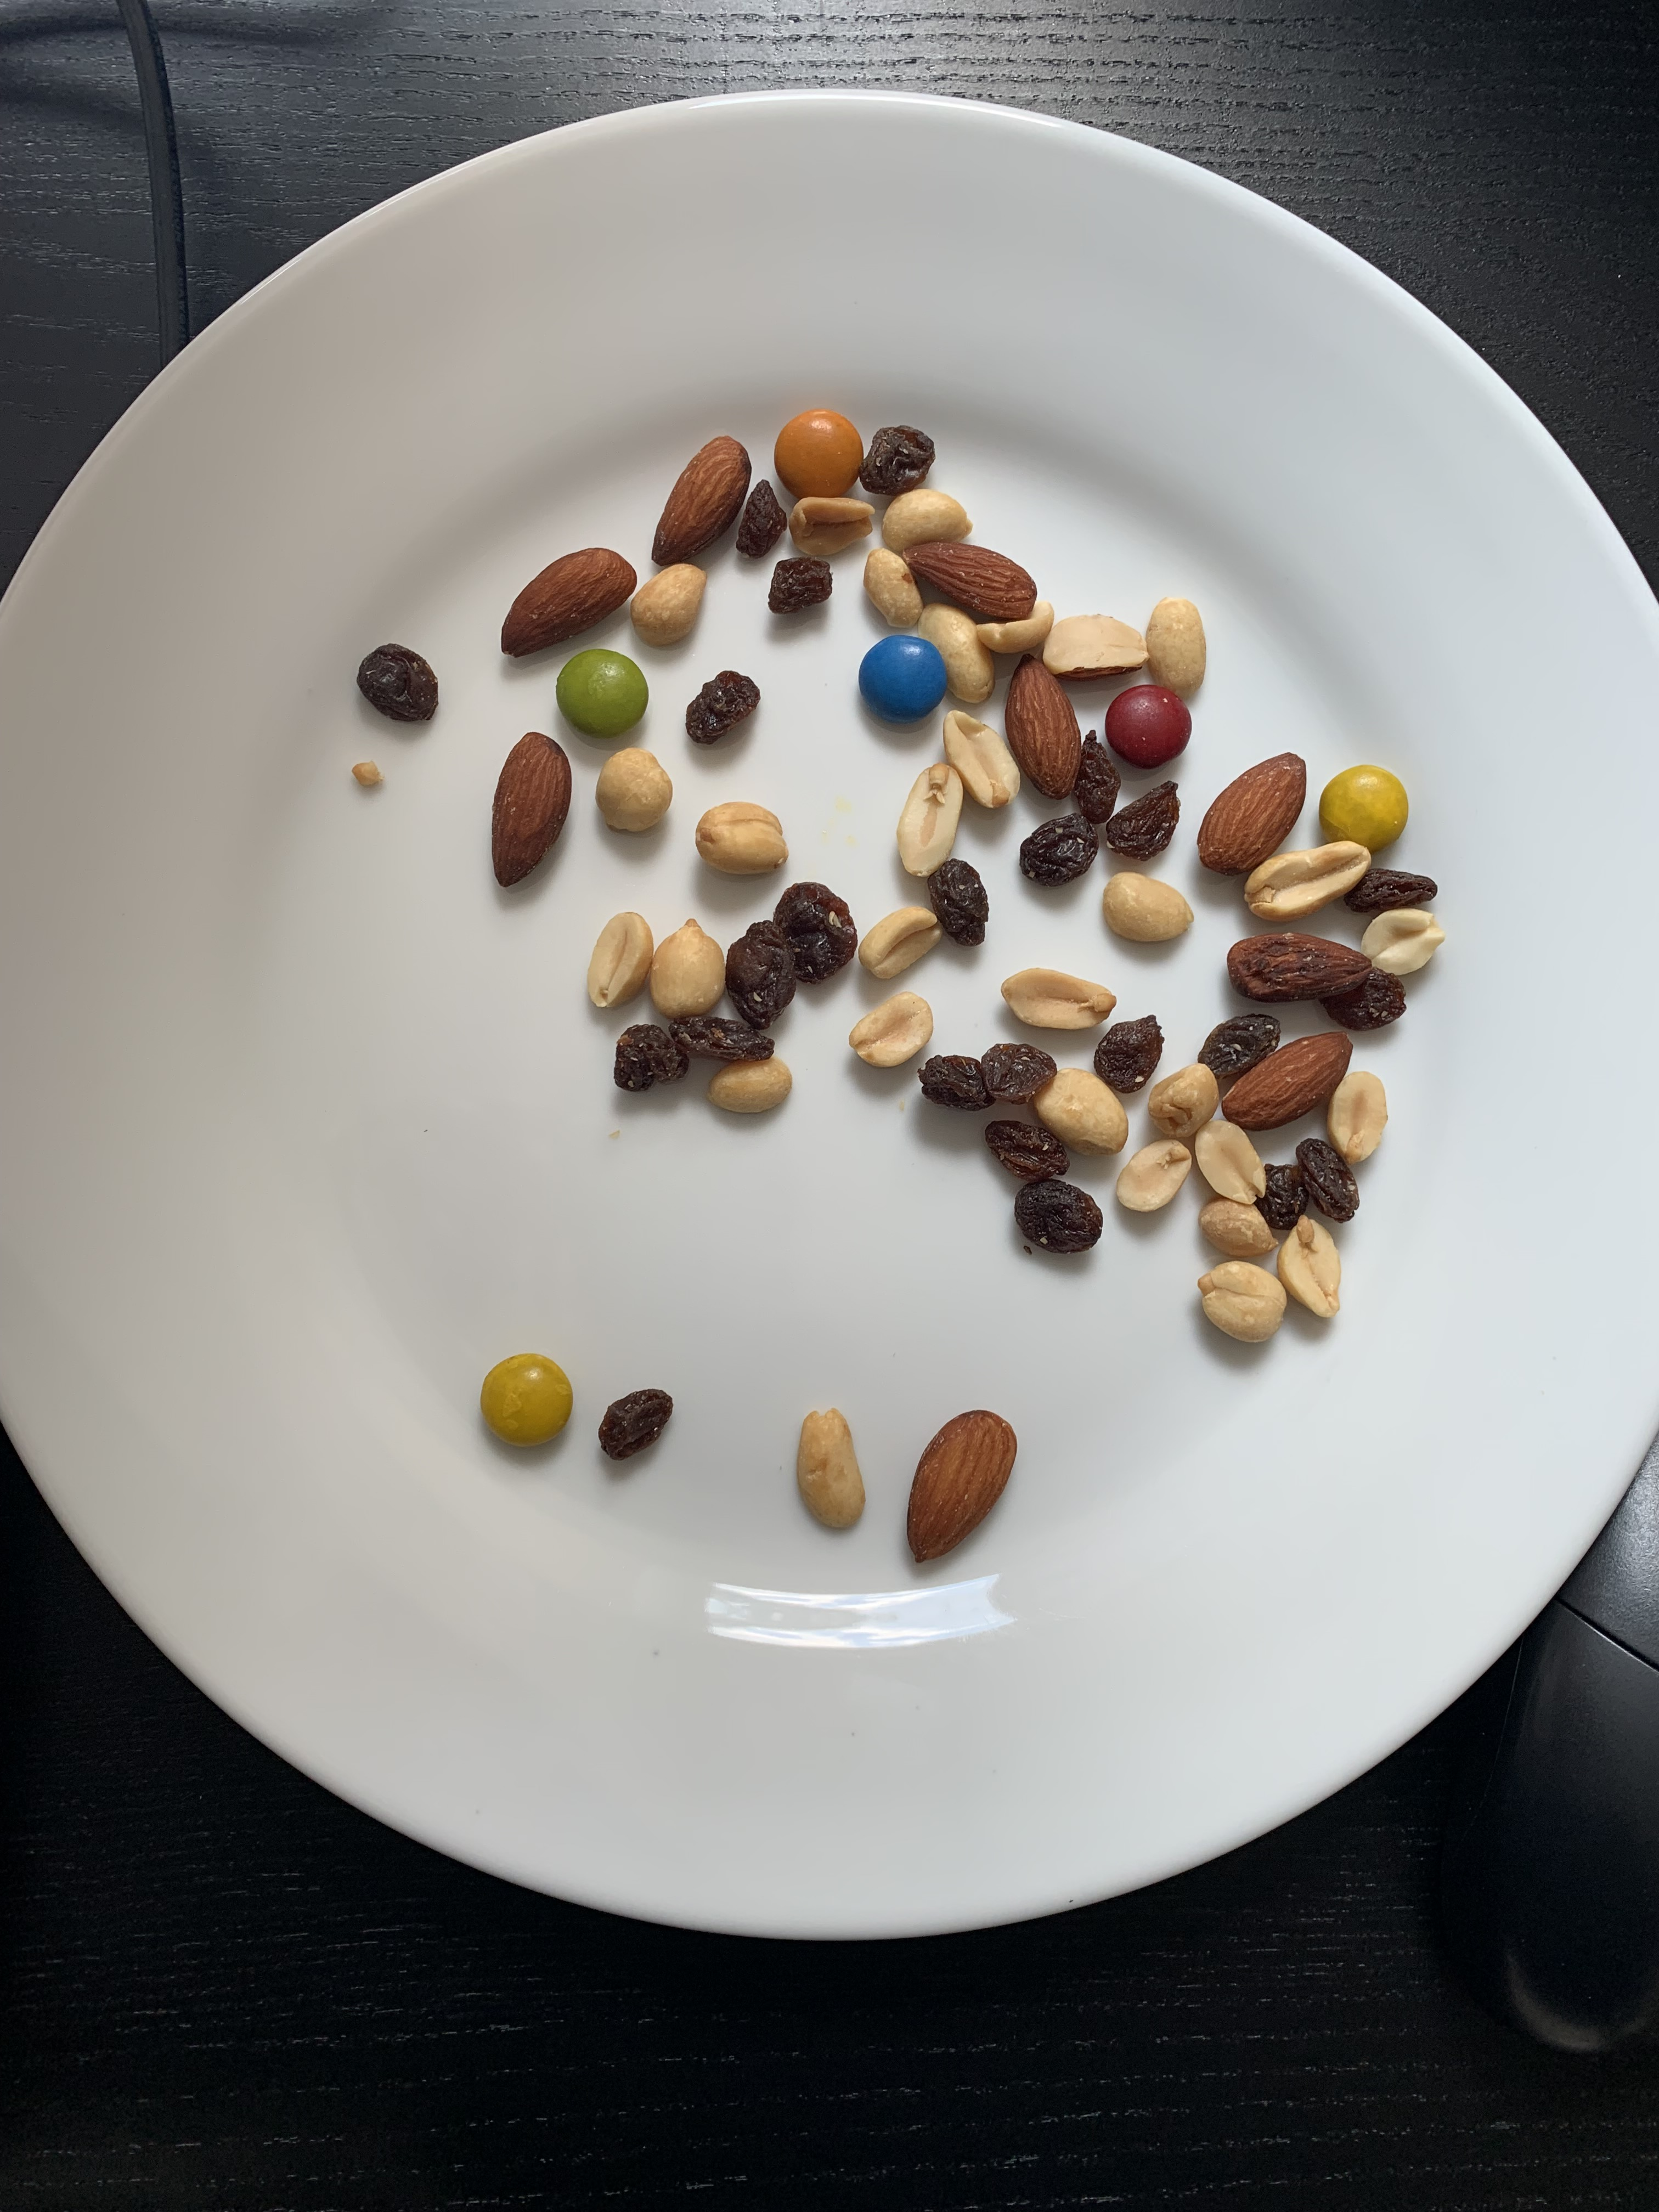almond: (904, 1409, 1019, 1564), (500, 547, 638, 658), (1220, 1031, 1354, 1132), (1197, 752, 1307, 874), (652, 434, 751, 566), (491, 732, 570, 887), (901, 540, 1037, 624), (1006, 653, 1082, 798), (1227, 932, 1373, 1001)
mm: (479, 1353, 572, 1449), (772, 409, 864, 503), (558, 650, 650, 738), (1319, 765, 1408, 852), (861, 636, 948, 723), (1105, 686, 1192, 768)
peanut: (1244, 841, 1373, 923), (1033, 1068, 1131, 1157), (795, 1407, 864, 1531), (896, 763, 965, 878), (943, 711, 1021, 812), (645, 920, 727, 1015), (1002, 968, 1117, 1035), (920, 604, 995, 704), (1199, 1261, 1288, 1345), (586, 911, 653, 1012), (629, 561, 706, 650), (1192, 1118, 1269, 1207), (697, 803, 789, 876), (1103, 873, 1195, 944), (1277, 1216, 1340, 1320), (849, 991, 934, 1068), (1143, 597, 1206, 700), (598, 747, 673, 831), (857, 906, 943, 979), (1358, 907, 1445, 979), (1047, 615, 1148, 676), (1326, 1071, 1387, 1163), (1115, 1141, 1192, 1214), (882, 489, 972, 549), (706, 1054, 791, 1116), (1148, 1064, 1218, 1141), (789, 496, 877, 554), (1197, 1198, 1281, 1256), (864, 549, 920, 631), (976, 601, 1053, 653)
raisin: (772, 881, 854, 982), (725, 920, 795, 1029), (1014, 1179, 1103, 1254), (359, 643, 439, 721), (1107, 780, 1182, 862), (1319, 963, 1406, 1031), (857, 423, 934, 496), (1021, 813, 1098, 887), (927, 859, 988, 949), (1297, 1136, 1359, 1223), (685, 671, 758, 744), (1094, 1014, 1162, 1092), (985, 1122, 1068, 1183), (1197, 1015, 1281, 1076), (599, 1390, 674, 1458), (615, 1024, 688, 1092), (673, 1015, 775, 1062), (978, 1045, 1056, 1101), (920, 1054, 995, 1109), (1077, 732, 1121, 824), (1345, 869, 1438, 911), (739, 479, 786, 559), (1256, 1163, 1310, 1233), (769, 559, 835, 615)
